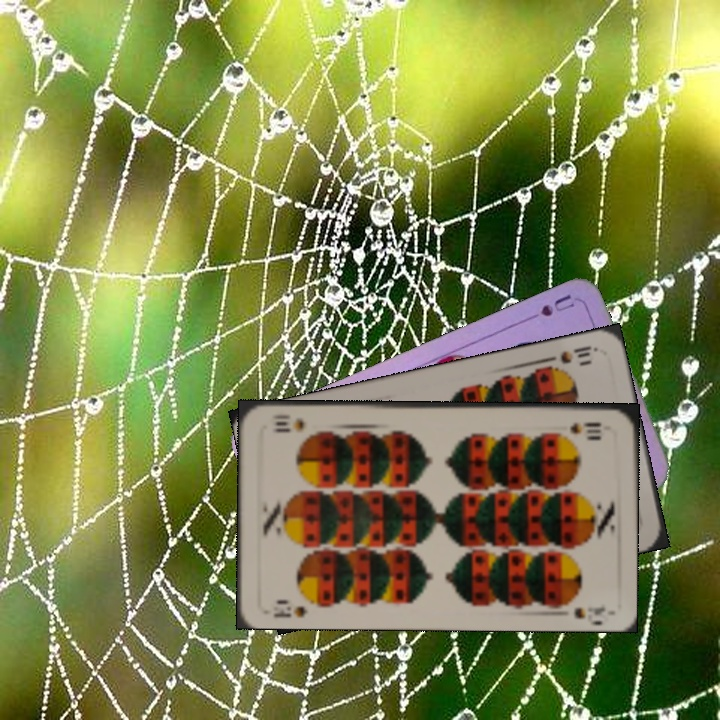S10: (540, 341, 599, 367), (269, 602, 311, 621), (566, 418, 604, 436)
SU: (519, 290, 578, 325)
